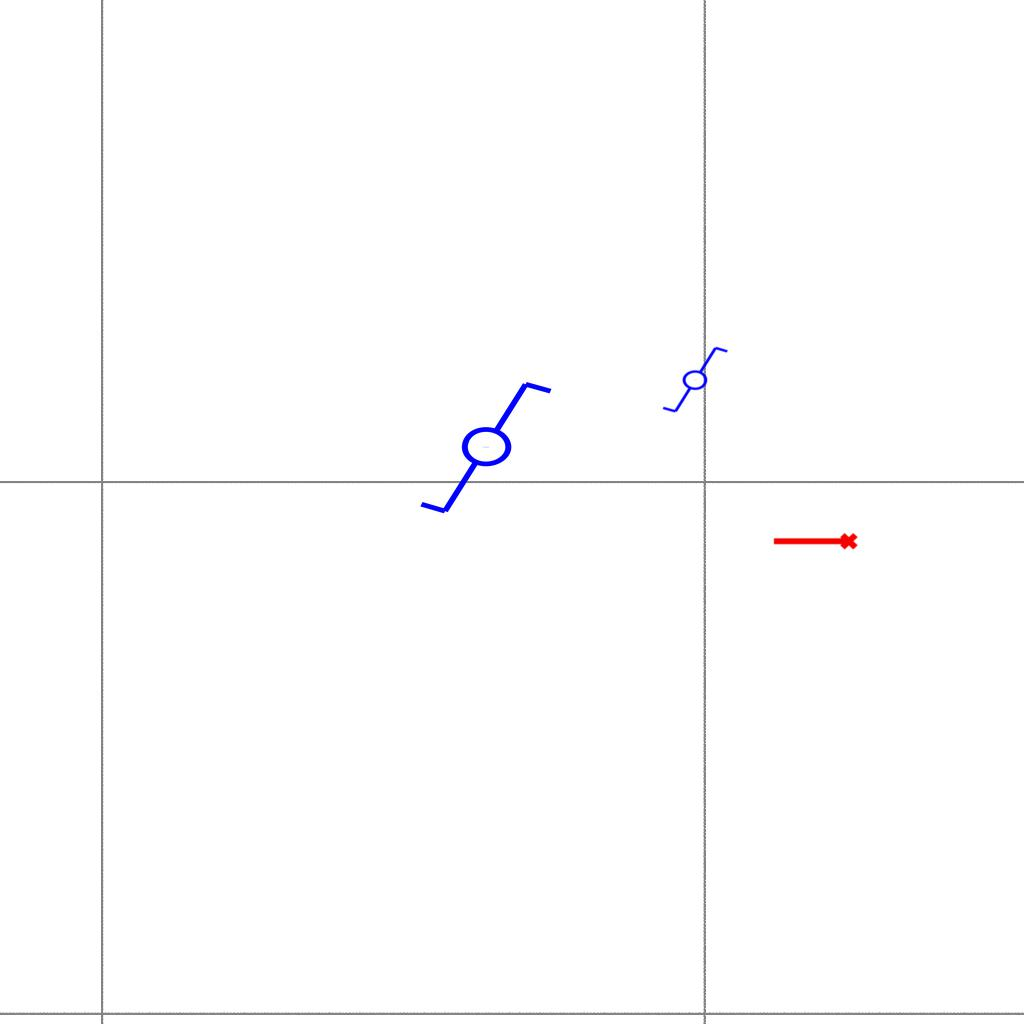ASR_Ansaugoeffnung: (771, 531, 859, 554)
Wechselschalter: (416, 377, 573, 521), (652, 343, 730, 415)
